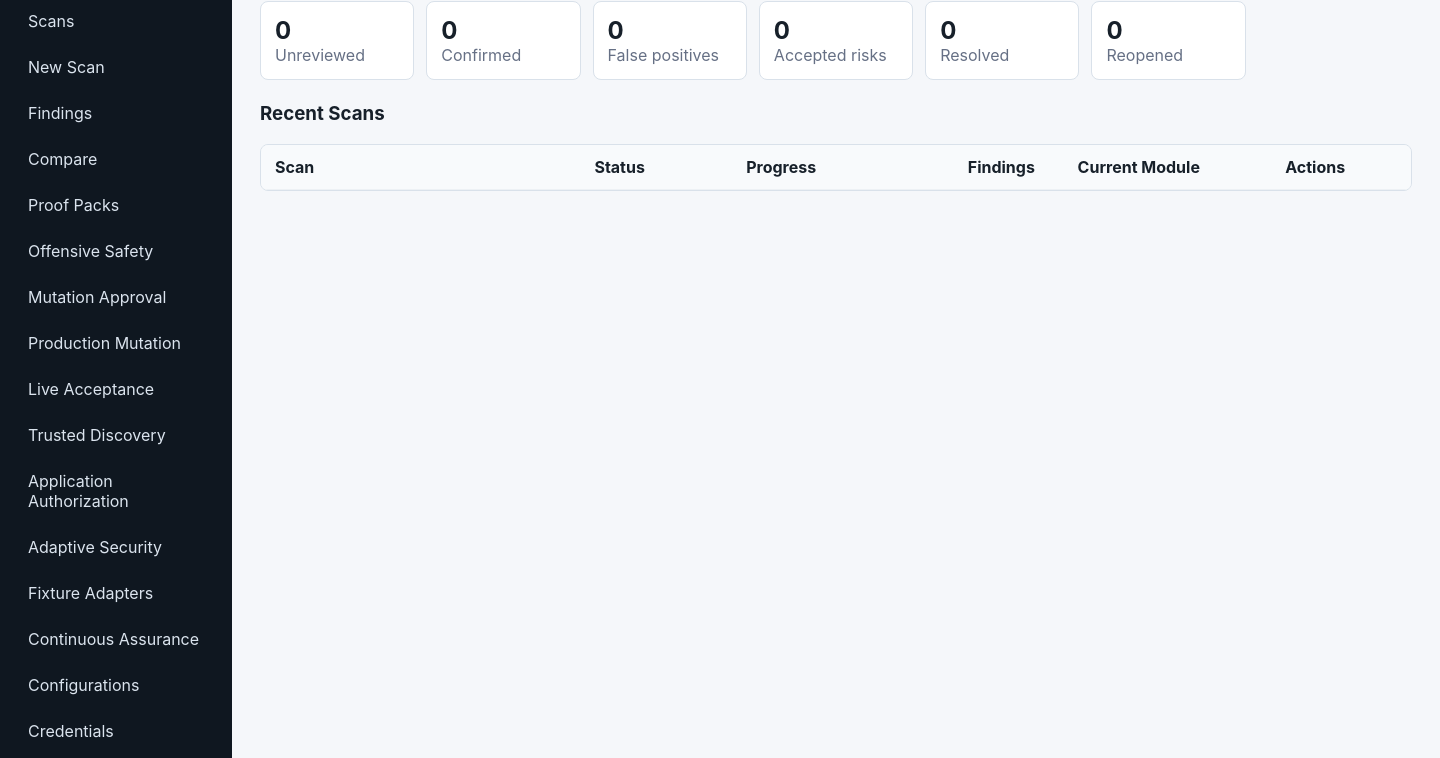
Test: RouteCairn dashboard UI › opens the dashboard-native live acceptance builder
(page scrolled)
Click the button "Live Acceptance" at (116,389), box [16, 369, 216, 409]
(page scrolled)
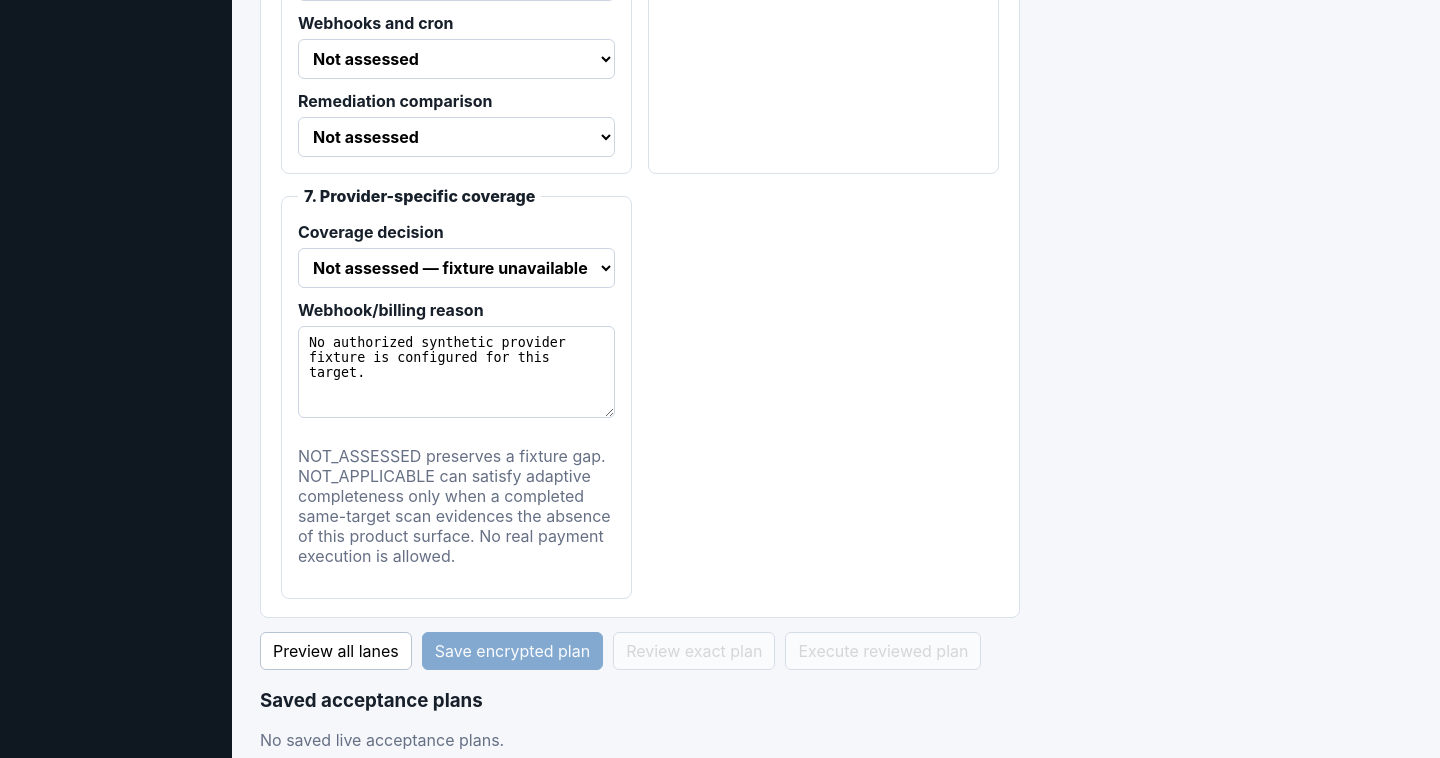
Check: the button "Preview all lanes" is shown, box [260, 632, 412, 670]
